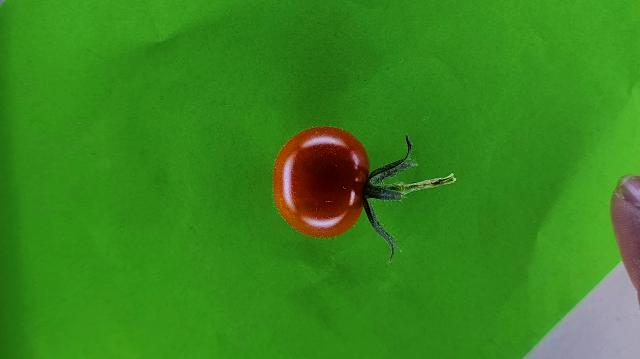Fully Grown: (271, 126, 371, 237)
